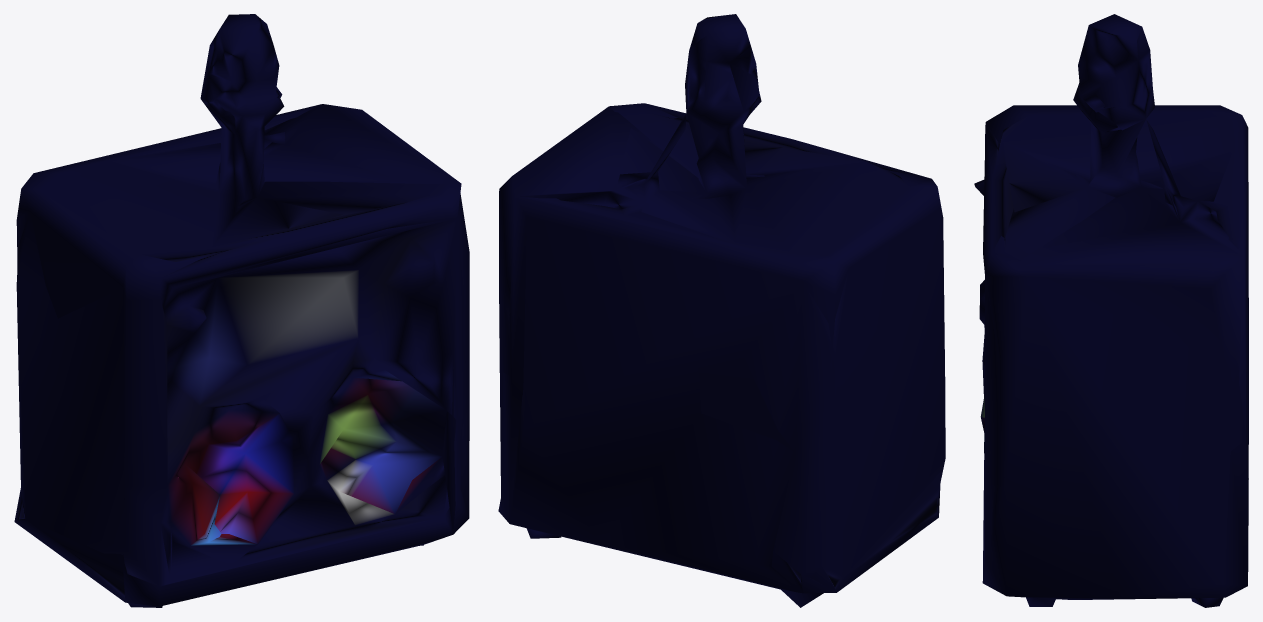
The model's file is gen3d-karaoke-machine-lod1.glb.
3 views of the same model, side by side, from view 1: azimuth 30°, elevation 25°; view 2: azimuth 150°, elevation 25°; view 3: azimuth 270°, elevation 25° (orthographic).
Parts seen in each view (by area): view 1: part_0; view 2: part_0; view 3: part_0.
Boxes of the visible parts, box(x1,y1,x2,y2) form: part_0: box(14, 14, 469, 607); part_0: box(498, 14, 945, 607); part_0: box(974, 14, 1248, 607).
Size of the model in its own units: 0.6868 by 0.9979 by 0.4814.
